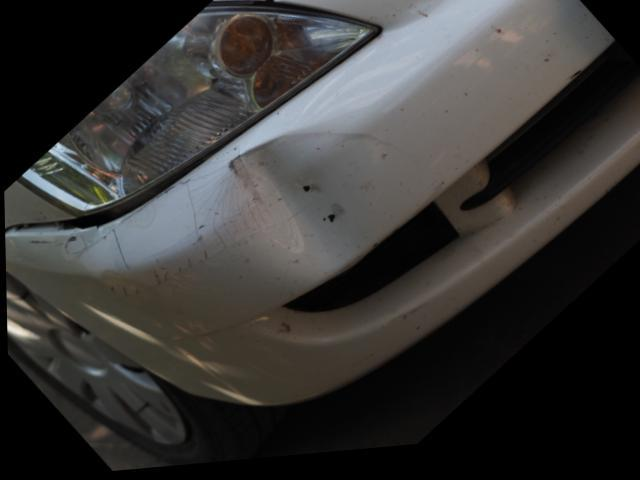dent: (222, 144, 349, 280)
